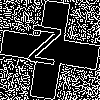Z: (25, 25, 62, 75)
